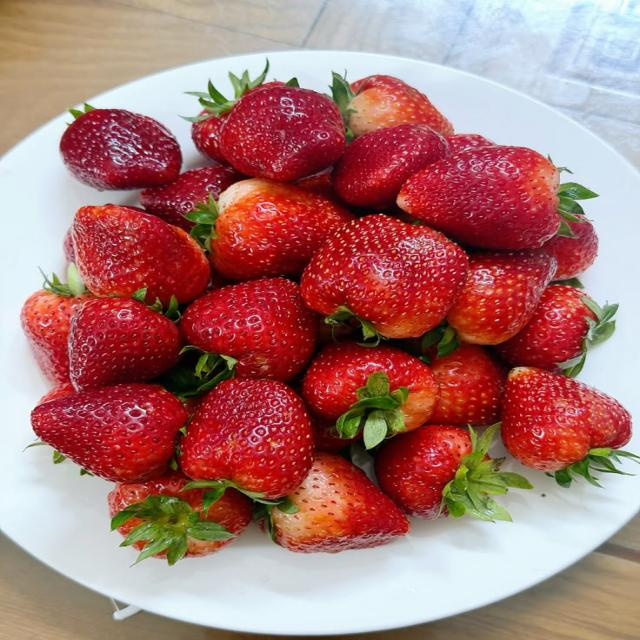strawberry: (301, 214, 467, 337), (398, 145, 560, 249), (190, 179, 355, 281), (179, 378, 313, 499), (501, 367, 635, 486), (31, 383, 187, 482), (374, 424, 531, 521), (302, 342, 439, 448), (180, 278, 318, 381), (268, 453, 410, 553), (73, 205, 210, 306), (108, 471, 253, 564), (220, 83, 346, 181), (497, 284, 617, 377), (69, 298, 182, 390), (447, 249, 554, 345), (60, 106, 181, 190), (332, 124, 448, 209), (20, 267, 94, 382), (186, 61, 268, 163), (333, 74, 453, 137), (140, 164, 245, 231), (428, 343, 506, 426), (543, 214, 599, 280), (191, 109, 228, 163), (446, 134, 495, 155), (37, 381, 76, 404)
